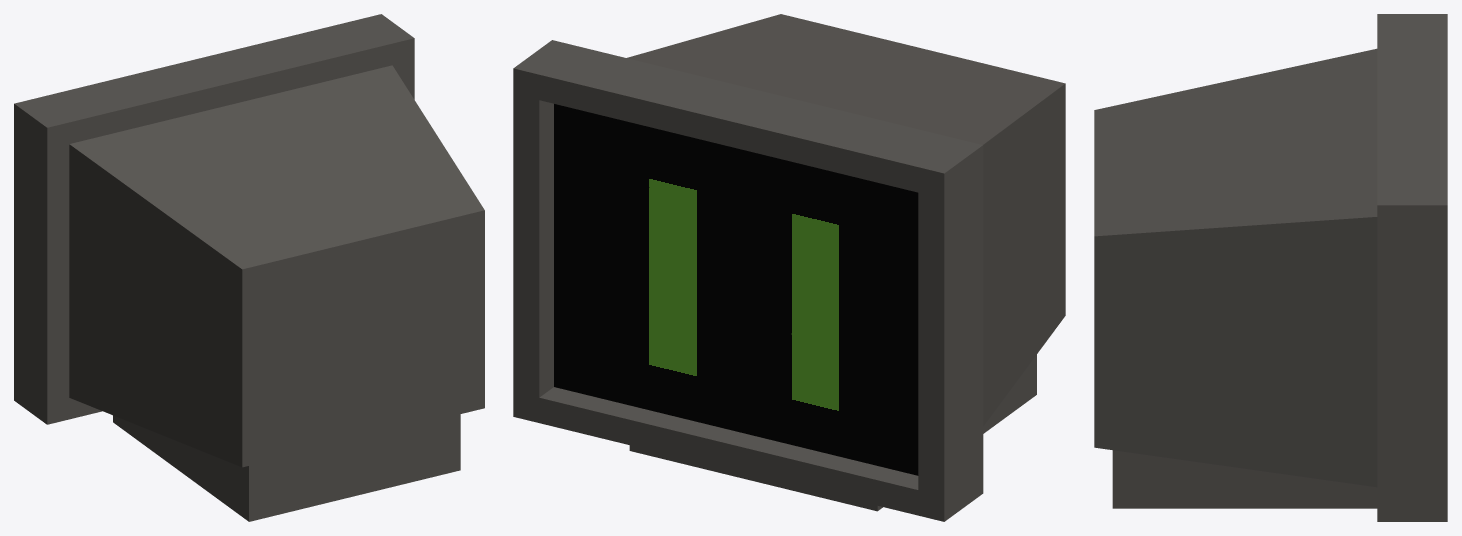
The model's file is simple-crt.glb.
The picture shows the model from 3 angles, left to right: view 1: azimuth 30°, elevation 25°; view 2: azimuth 150°, elevation 25°; view 3: azimuth 270°, elevation 25°; orthographic projection. The views are drawn at different scales.
Parts seen in each view (by area): view 1: Cube; view 2: Cube; view 3: Cube.
Boxes of the visible parts, x1,y1,x2,y2 form: Cube: [14, 14, 484, 521]; Cube: [513, 14, 1065, 521]; Cube: [1094, 14, 1447, 521].
Bounding box in the file's own units: 2.27 × 1.91 × 1.78.
Materials: 1 (1 with a texture image).
